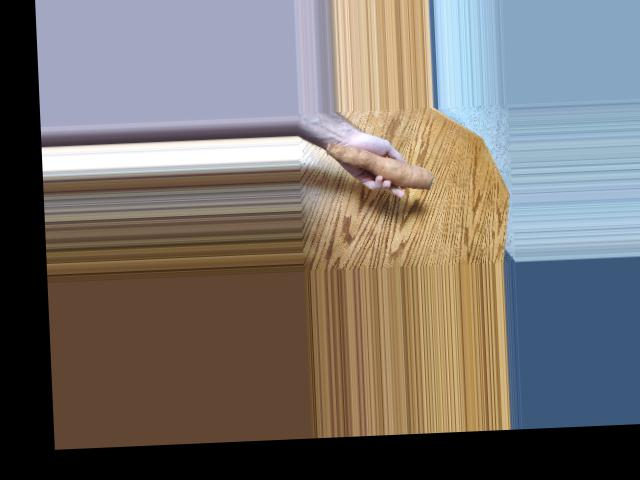sweet_potato: (322, 136, 434, 196)
